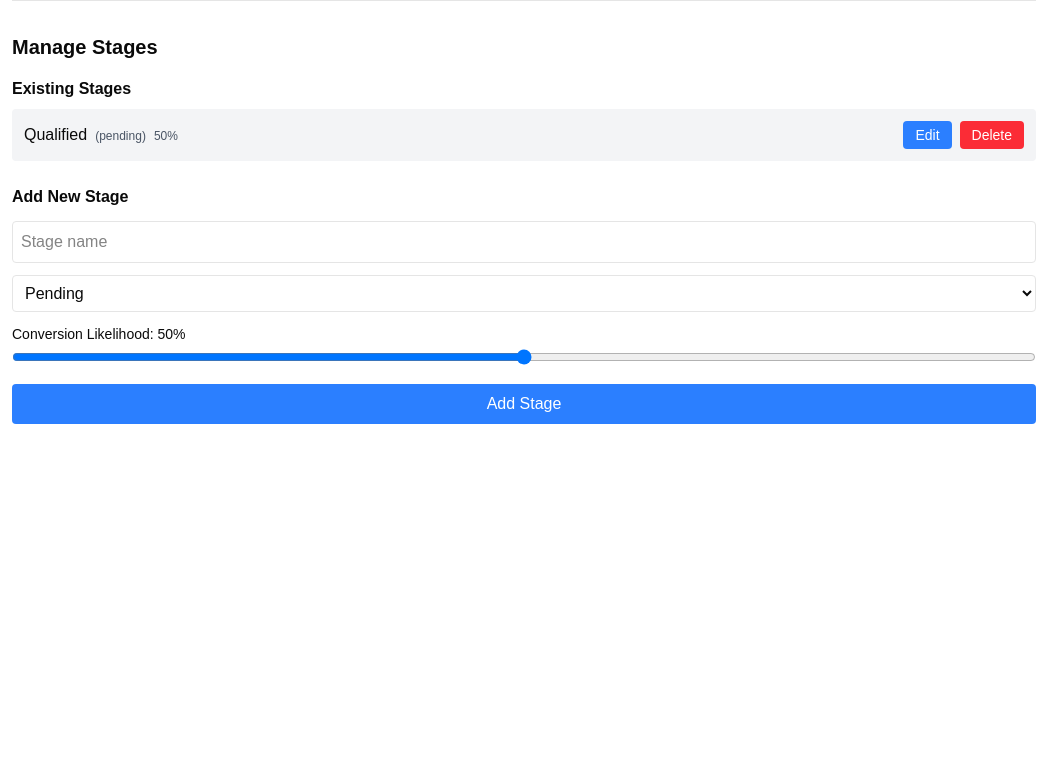
it: ManageStages › hides the edit form when Cancel is clicked
Click the button "Edit".
click(927, 135)  # box 903,121 -> 952,149
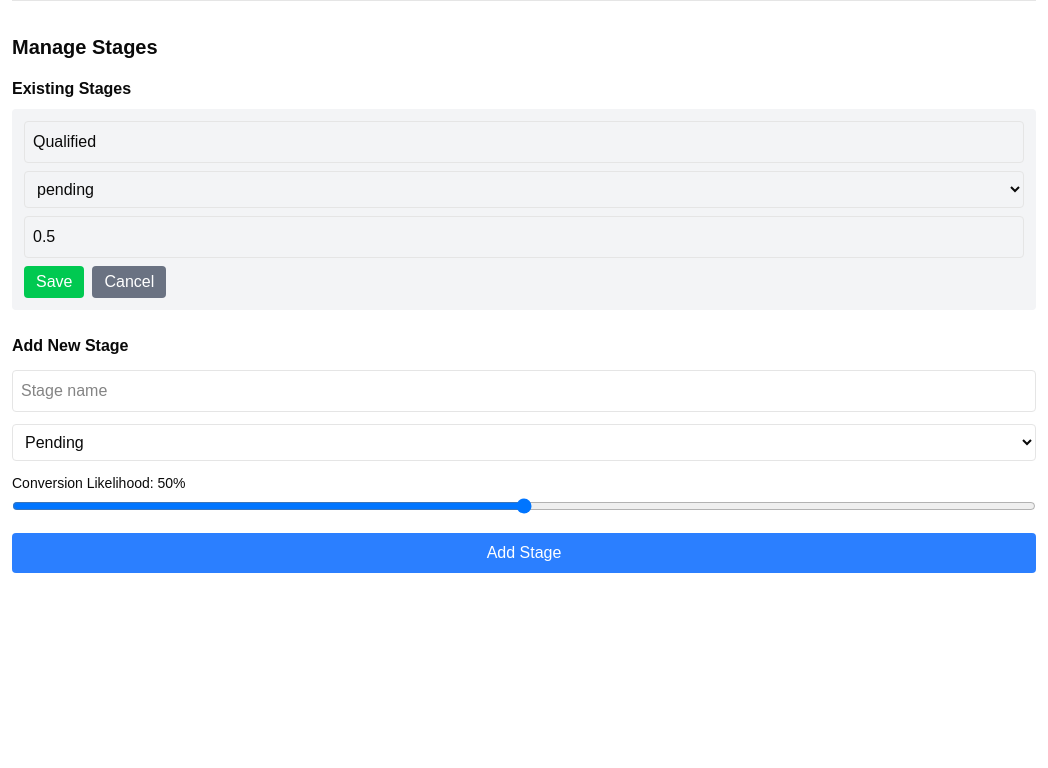
Click the button "Cancel".
click(129, 282)  # box 92,266 -> 166,298
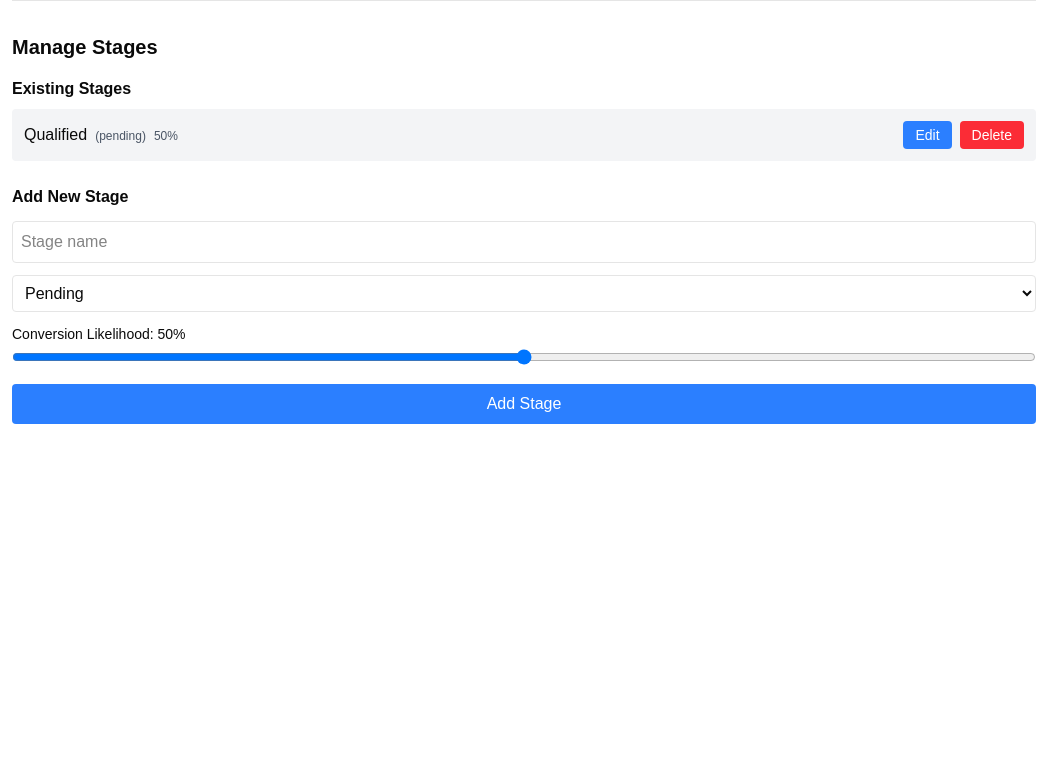
Now the button "Save" is gone
Now the text "Qualified" is shown, box 24,126 -> 87,143
